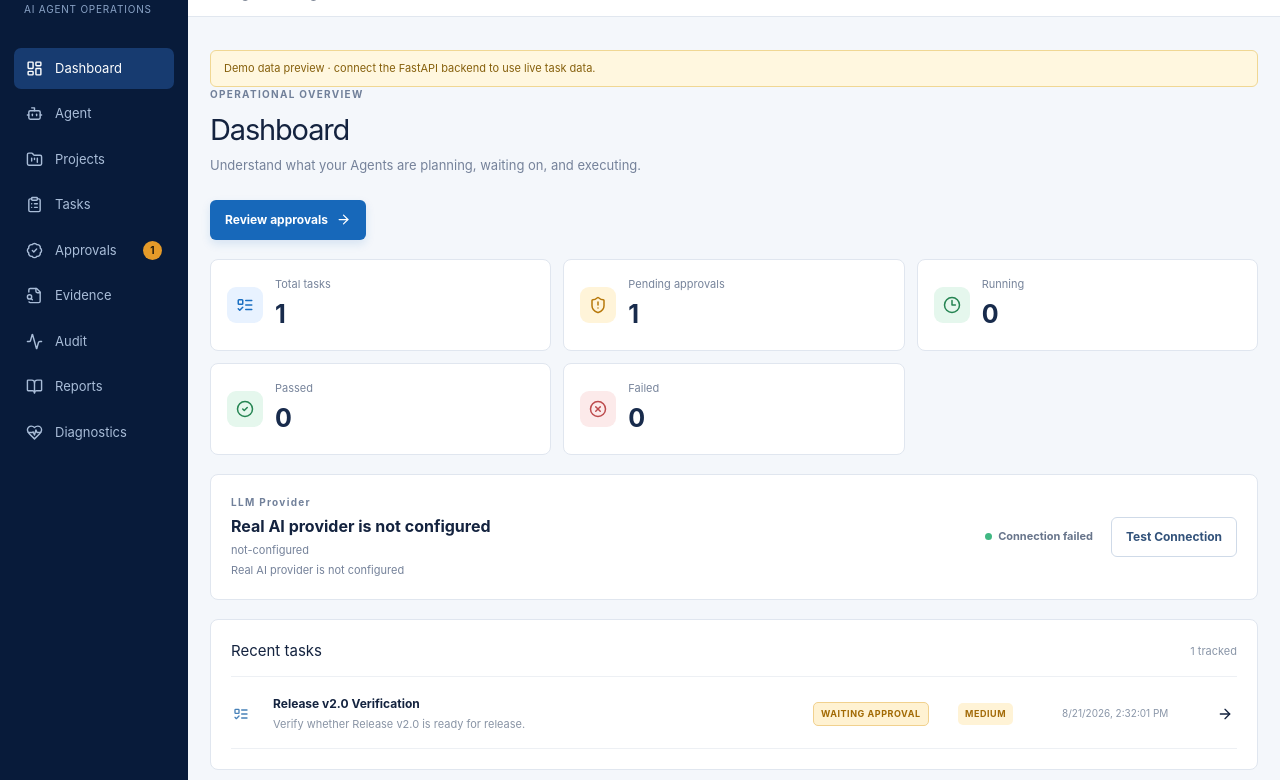
Test: AgentForge operations console › shows the approval error when the decision request is rejected
Click the button "Review approvals". click: {"x": 288, "y": 220}
box: [210,200,366,240]
(page scrolled)
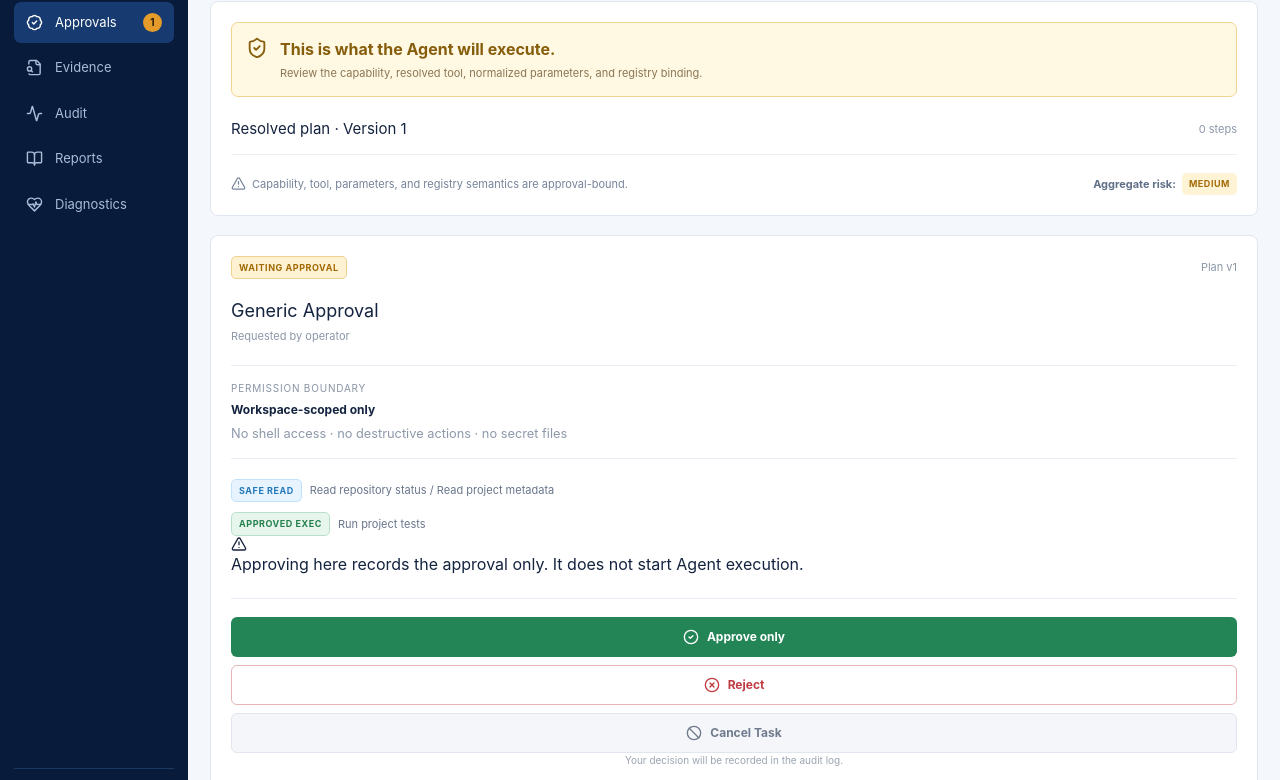
Click the button "Approve only". click: {"x": 734, "y": 637}
box: [231,617,1237,657]
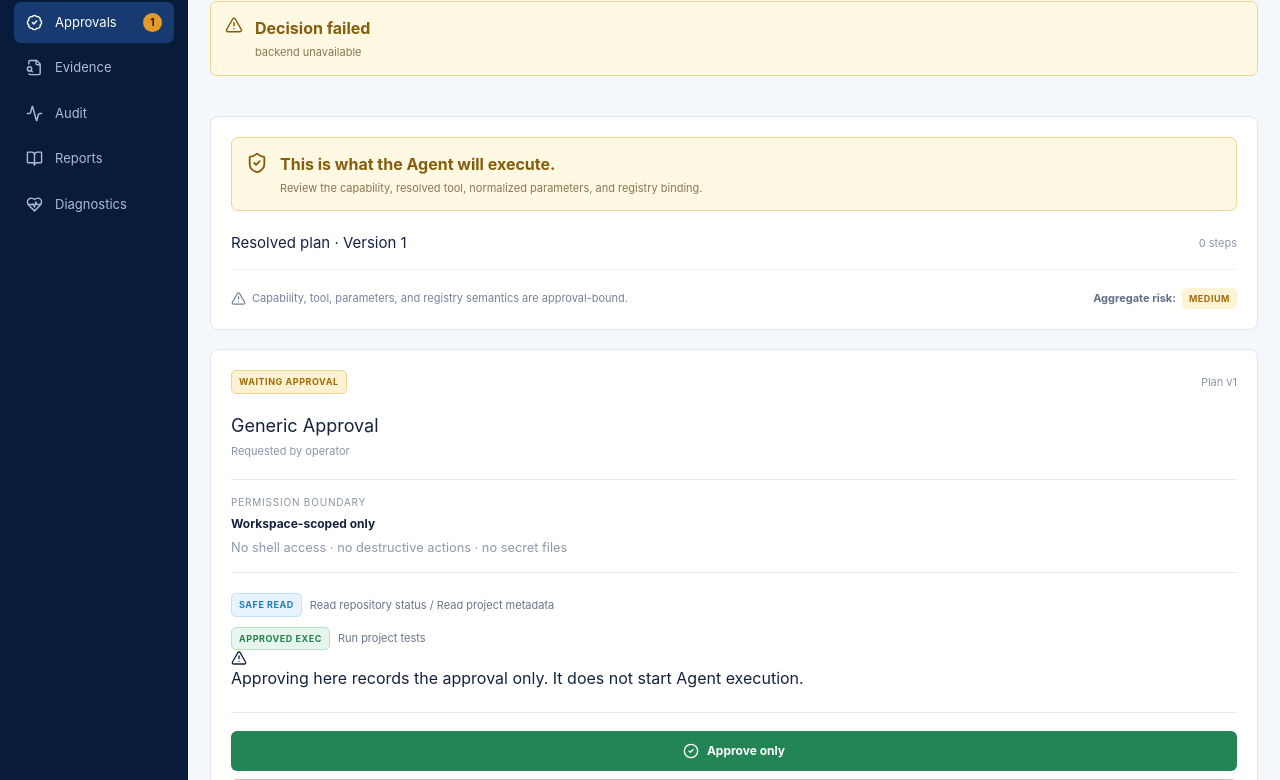
expect the message shows "backend unavailable": met, box [255,45,362,59]
